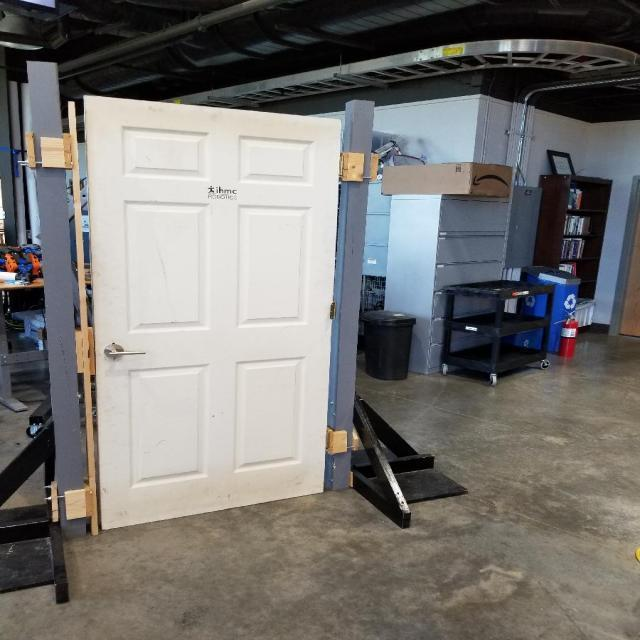door: (80, 90, 348, 532), (101, 343, 152, 360)
